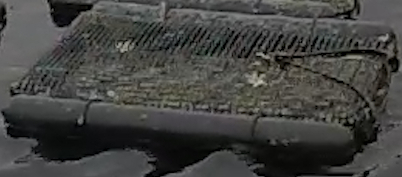bag: (7, 2, 399, 163)
